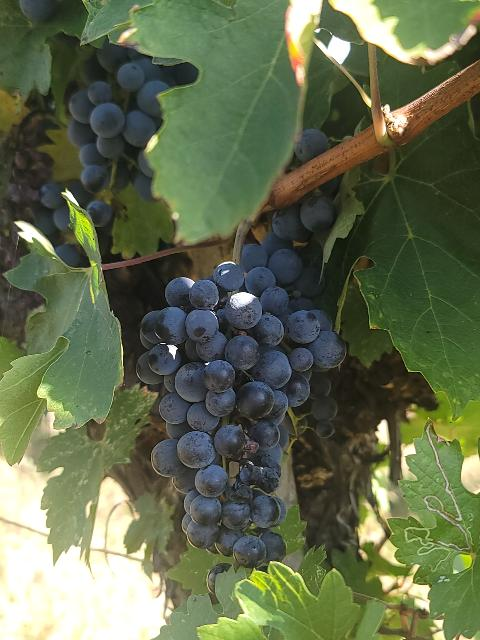grapes: (136, 260, 346, 569)
